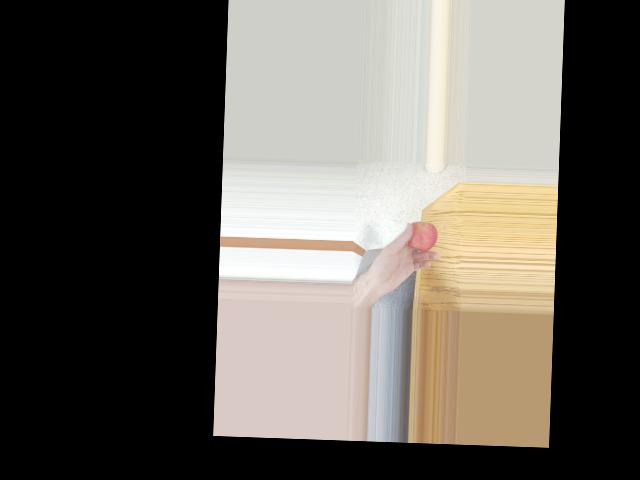apple: (406, 218, 438, 254)
